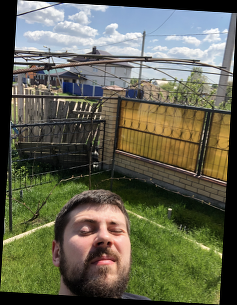without_mask: (67, 212, 131, 298)
